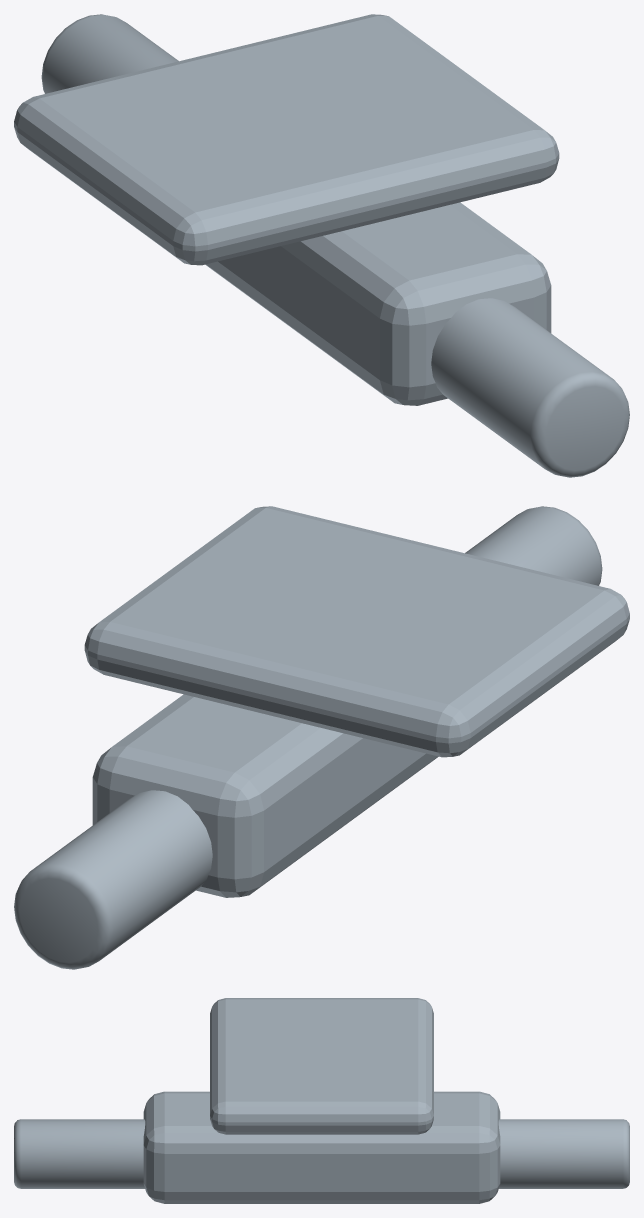
Rendered from truck.glb.
The picture shows the model from 3 angles, top to bottom: view 1: azimuth 30°, elevation 25°; view 2: azimuth 150°, elevation 25°; view 3: azimuth 270°, elevation 25°; orthographic projection. The views are drawn at different scales.
Parts seen in each view (by area): view 1: truck_textured_mesh; view 2: truck_textured_mesh; view 3: truck_textured_mesh.
Part boxes in pixels (box(x1,y1,x2,y2)): truck_textured_mesh: box(14, 14, 629, 477); truck_textured_mesh: box(14, 506, 629, 969); truck_textured_mesh: box(14, 998, 629, 1203).
Bounding box in the file's own units: 0.78 × 0.38 × 1.76.
Materials: 1 (1 with a texture image).
